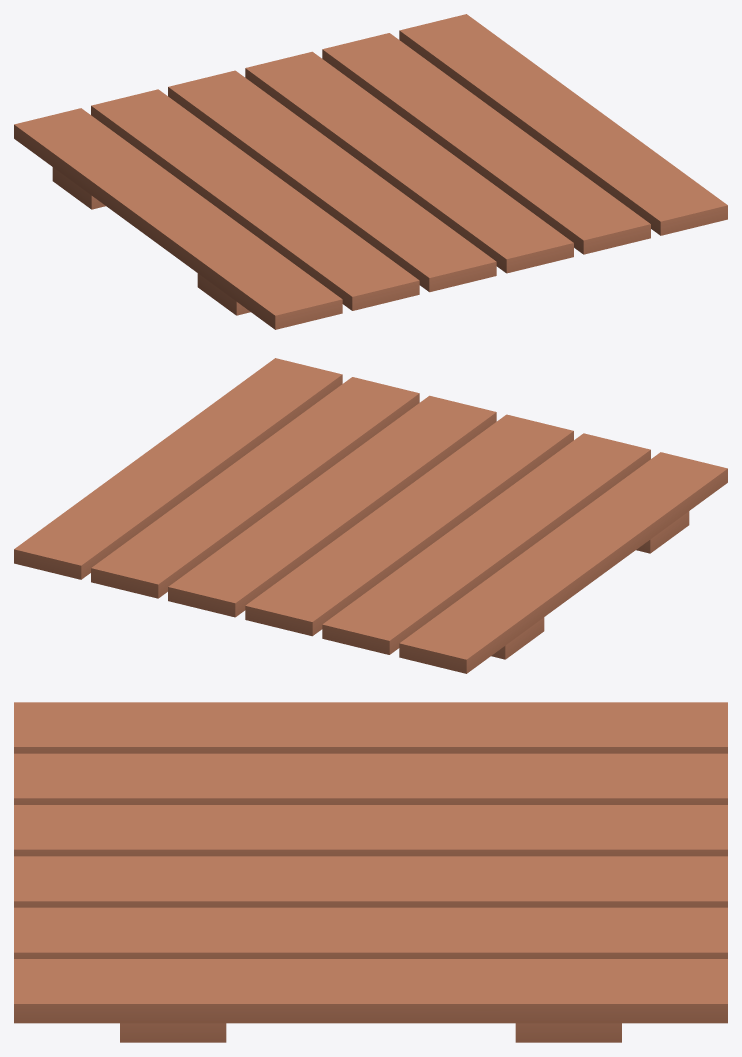
The model's file is planks.glb.
3 renders of one model, top to bottom at view 1: azimuth 30°, elevation 25°; view 2: azimuth 150°, elevation 25°; view 3: azimuth 270°, elevation 25°, orthographic. The views are drawn at different scales.
Visible parts, largest first — view 1: planks; view 2: planks; view 3: planks.
Part boxes in pixels (x1,y1,x2,y2): planks: (14,14,727,329); planks: (14,358,727,673); planks: (14,702,727,1042).
Bounding box in the file's own units: 1 × 0.0599 × 1.
1 material, 1 textured.
